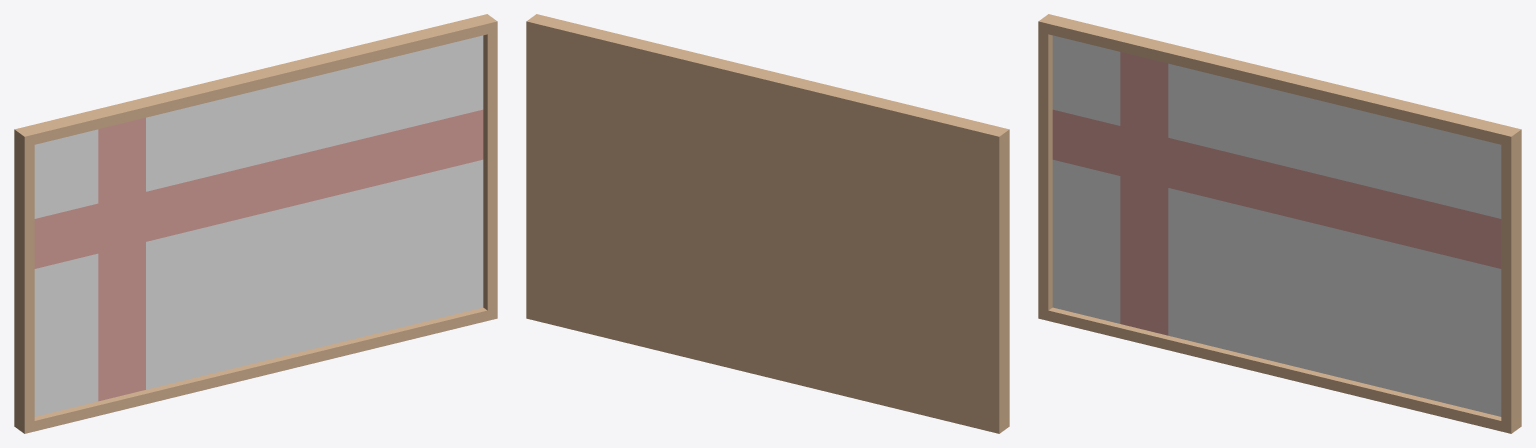
File: picture1.fbx
3 renders of one model, left to right at view 1: azimuth 30°, elevation 25°; view 2: azimuth 150°, elevation 25°; view 3: azimuth 330°, elevation 25°, orthographic.
Visible parts, largest first — view 1: Cube_7; view 2: Cube_7; view 3: Cube_7.
Boxes of the visible parts, x1,y1,x2,y2 form: Cube_7: [14, 14, 497, 433]; Cube_7: [526, 14, 1009, 433]; Cube_7: [1038, 14, 1521, 433].
Size of the model in its own units: 42.49 by 25.51 by 1.58.
